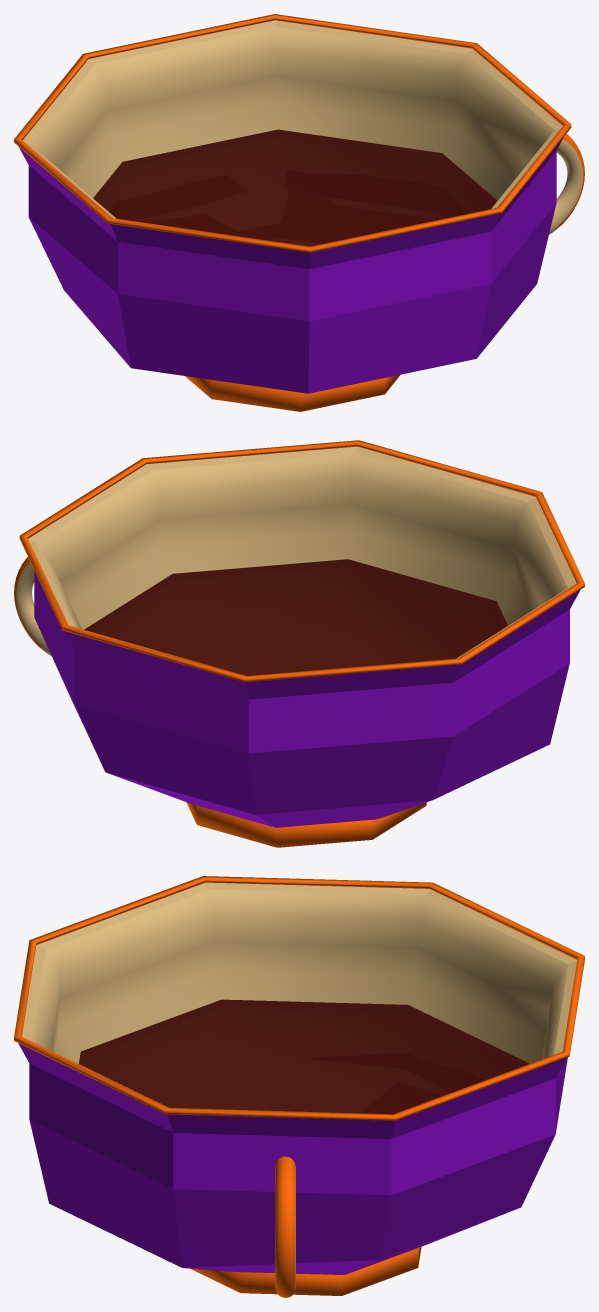
The model's file is teacup2.obj.
3 renders of one model, top to bottom at view 1: azimuth 30°, elevation 25°; view 2: azimuth 150°, elevation 25°; view 3: azimuth 270°, elevation 25°, orthographic. The views are drawn at different scales.
Visible parts, largest first — view 1: Cylinder, Cube_Cube.001, Cylinder.002, Cylinder.001, Torus; view 2: Cylinder, Cube_Cube.001, Cylinder.002, Cylinder.001, Torus; view 3: Cylinder, Cube_Cube.001, Cylinder.002, Cylinder.001, Torus.
Part boxes in pixels (x1,y1,x2,y2): Cylinder: (18, 20, 563, 393); Cube_Cube.001: (93, 129, 497, 246); Cylinder.002: (14, 14, 571, 252); Cylinder.001: (185, 374, 400, 411); Torus: (549, 134, 584, 234); Cylinder: (28, 446, 580, 827); Cube_Cube.001: (84, 559, 507, 675); Cylinder.002: (19, 440, 584, 682); Cylinder.001: (186, 802, 426, 847); Torus: (14, 557, 51, 655); Cylinder: (18, 882, 576, 1274); Cube_Cube.001: (79, 999, 529, 1114); Cylinder.002: (14, 876, 584, 1120); Cylinder.001: (190, 1247, 421, 1295); Torus: (275, 1156, 295, 1297).
Bounding box in the file's own units: 3.33 × 1.42 × 2.97.
